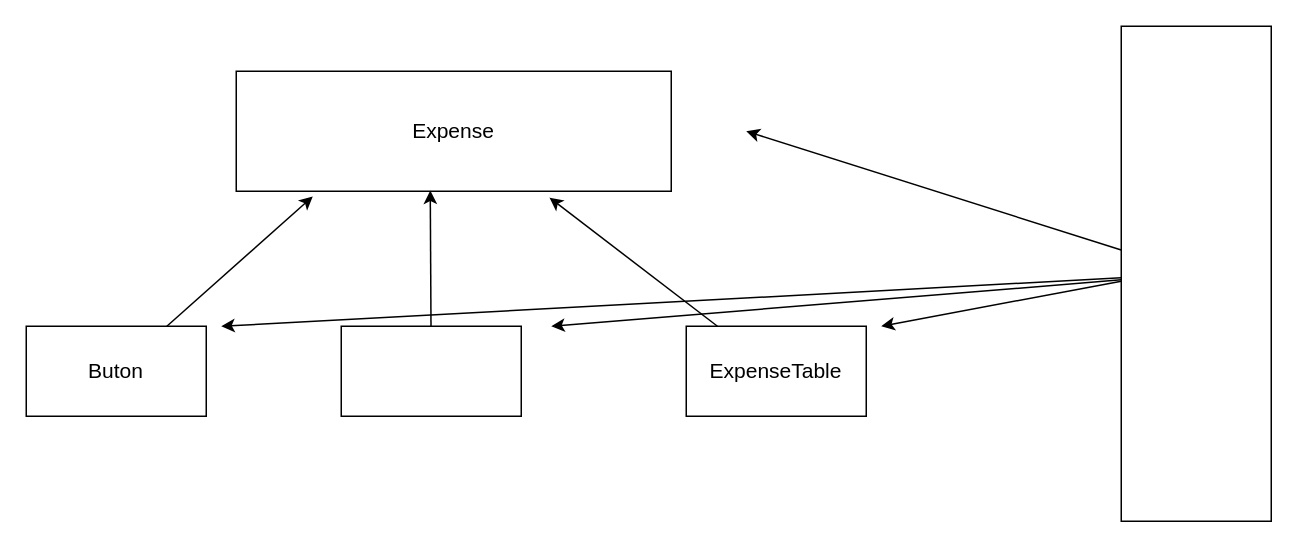
This 1298x548 diagram has some shape labels left out. The centre of each missing label's shape, as x and y in pixels:
ExpenseForm: (430,370)
ReduxToolKit: (1195,273)
